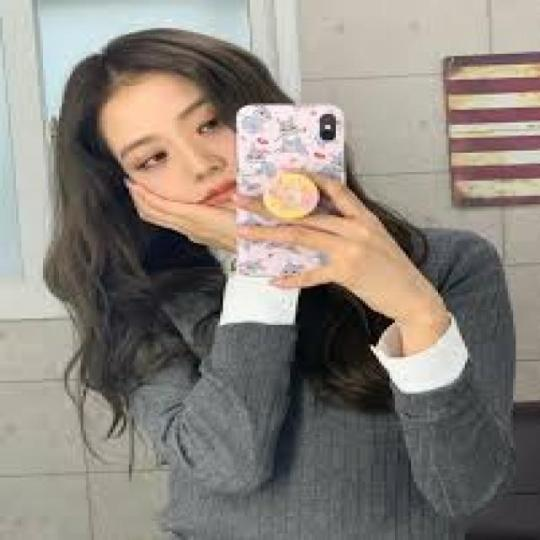phone: (229, 96, 357, 288)
